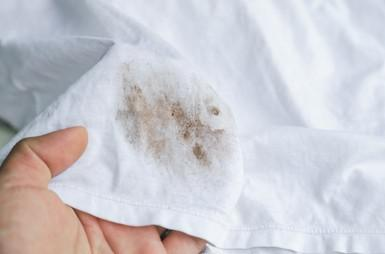gun: (113, 55, 232, 167)
